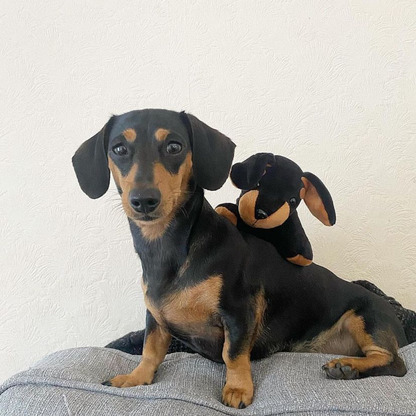dachshund: (77, 99, 402, 392)
